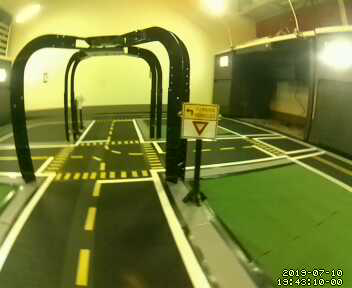Turn Yield: (181, 101, 217, 142)
